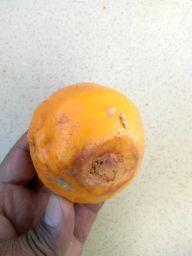Unripe: (26, 83, 145, 205)
